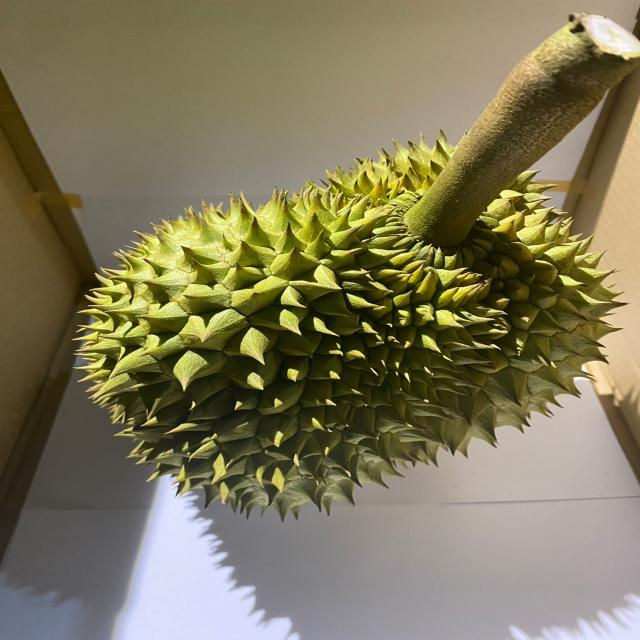immature: (71, 135, 631, 506)
